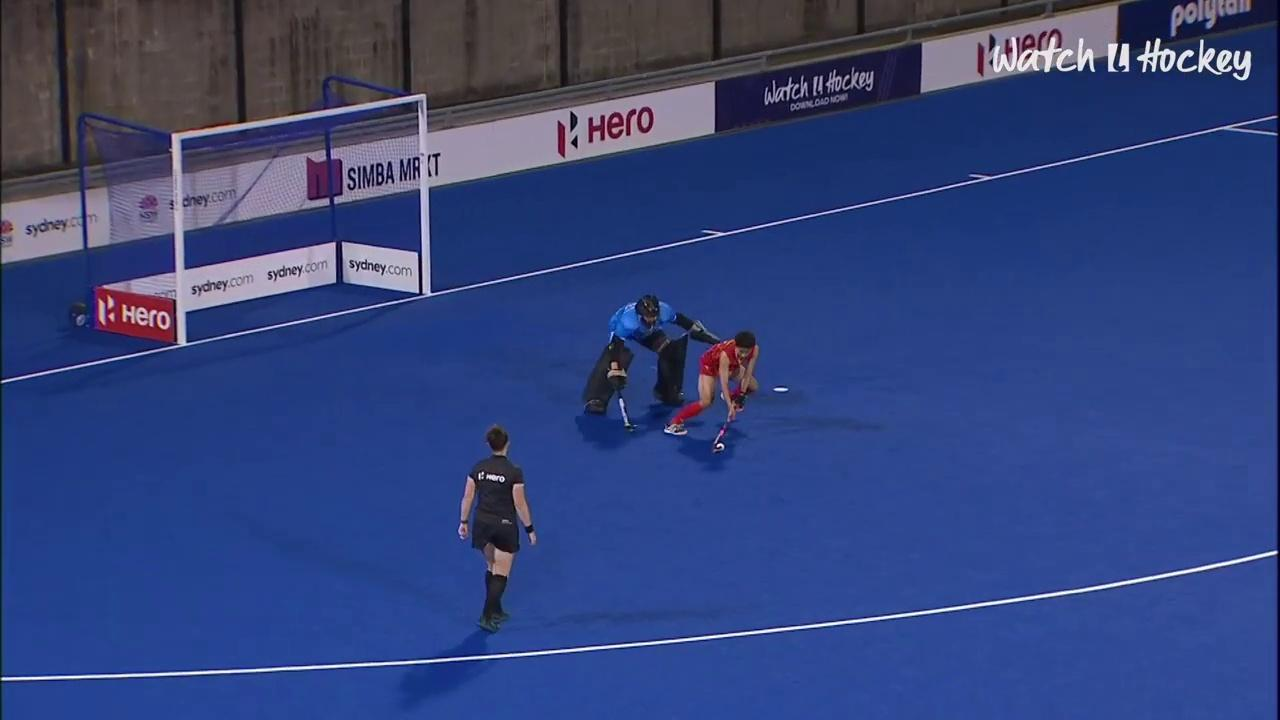ball: (709, 436, 735, 460)
